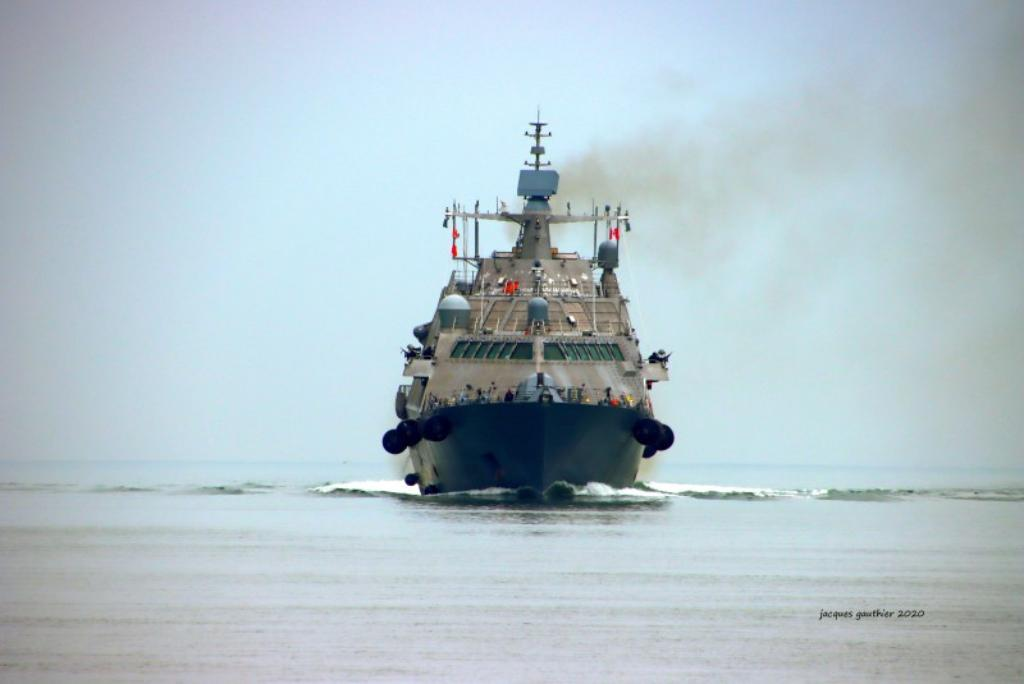Warship: (392, 106, 674, 496)
